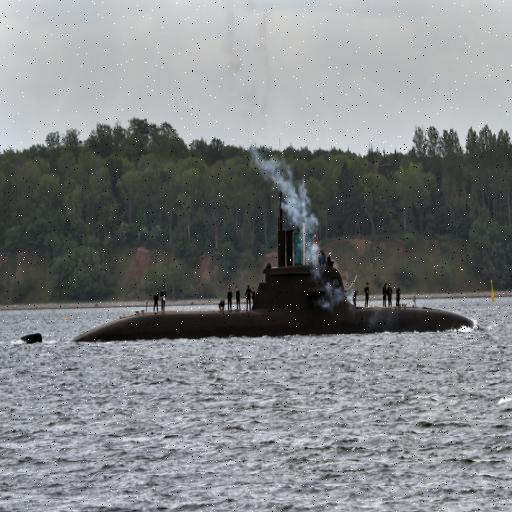submarine: (73, 222, 476, 343)
